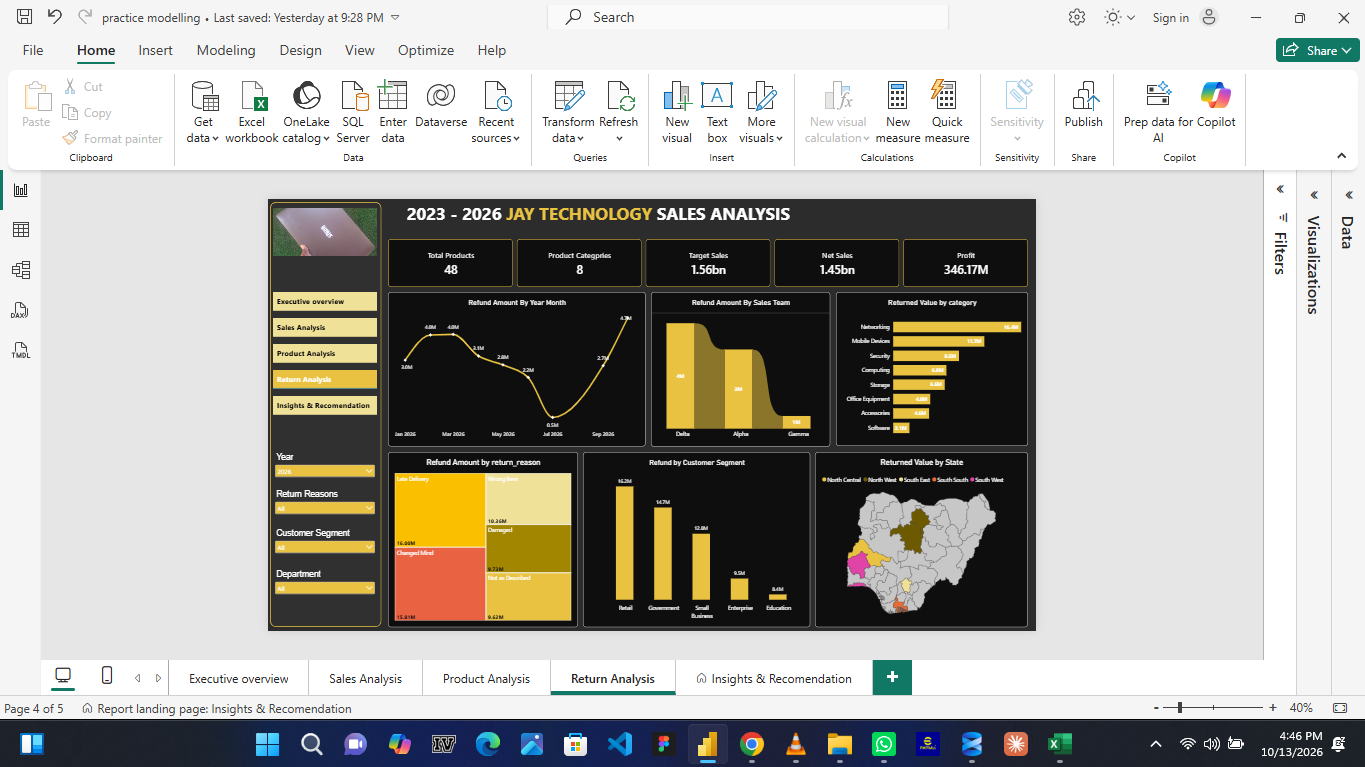

What the dashboard file says about the page in this screenshot:
{"tool":"powerbi","page":{"name":"Return Analysis","canvas":[1920,1080],"ordinal":3},"visuals":[{"type":"shape","box":[4.3,8.6,278.6,1062.7],"z":0},{"type":"textbox","box":[300.2,8.6,1051.9,60.5],"z":1000},{"type":"cardVisual","fields":{"Data":["measure.Total Products","measure.Product Categpries","measure.Target Sales","measure.Net Sales","measure.Profit"]},"box":[300,100,1600,120],"z":2000},{"type":"lineChart","title":"Refund Amount By Year Month","fields":{"Y":["measure.Returned Value"],"Category":["dim_date.year_month.Variation.Date Hierarchy.Year","dim_date.year_month.Variation.Date Hierarchy.Month"]},"box":[300,232,644,386],"z":3000},{"type":"slicer","fields":{"Values":["dim_date.year"]},"box":[12.5,632.5,260,75],"z":4000},{"type":"clusteredBarChart","fields":{"Y":["measure.Returned Value"],"Category":["dim_product.category"]},"box":[1420,232.5,480,385],"z":5000},{"type":"ribbonChart","title":"Refund Amount By Sales Team","fields":{"Y":["measure.Returned Value"],"Category":["dim_sales_reps.sales_team"]},"box":[958.3,231.7,448.3,386.7],"z":6000},{"type":"treemap","title":"Refund Amount by return_reason","fields":{"Group":["fact_returns.return_reason"],"Values":["measure.Returned Value"]},"box":[300,631.7,475,438.3],"z":7000},{"type":"columnChart","title":"Refund by Customer Segment","fields":{"Category":["dim_customer.customer_segments"],"Y":["measure.Returned Value"]},"box":[788.3,631.7,568.3,438.3],"z":8000},{"type":"slicer","fields":{"Values":["fact_returns.return_reason"]},"box":[12.5,725,260,75],"z":9000},{"type":"slicer","fields":{"Values":["dim_customer.customer_segments"]},"box":[12.5,822.5,260,72.5],"z":10000},{"type":"slicer","fields":{"Values":["dim_product.department"]},"box":[12.5,925,260,72.5],"z":11000},{"type":"pageNavigator","box":[12.5,232.5,260,307.5],"z":12000},{"type":"shapeMap","title":"Returned Value by State","fields":{"Category":["dim_customer.state"],"Series":["dim_customer.territory"],"Value":["measure.Returned Value"]},"box":[1368,632,532,438],"z":13000},{"type":"image","box":[12.5,22.5,260,120],"z":14000}]}

Visuals, with their boxes on the page's 1920x1080 design canvas (x1, y1, x2, y2). These are canvas units, not pixel positions in the 1365x767 screenshot, which may show the page scaled, cropped or inside an application window:
shape: [x1=4, y1=9, x2=283, y2=1071]
textbox: [x1=300, y1=9, x2=1352, y2=69]
cardVisual - measure.Total Products x measure.Product Categpries: [x1=300, y1=100, x2=1900, y2=220]
"Refund Amount By Year Month" lineChart: [x1=300, y1=232, x2=944, y2=618]
slicer - dim_date.year: [x1=12, y1=632, x2=272, y2=708]
clusteredBarChart - measure.Returned Value x dim_product.category: [x1=1420, y1=232, x2=1900, y2=618]
"Refund Amount By Sales Team" ribbonChart: [x1=958, y1=232, x2=1407, y2=618]
"Refund Amount by return_reason" treemap: [x1=300, y1=632, x2=775, y2=1070]
"Refund by Customer Segment" columnChart: [x1=788, y1=632, x2=1357, y2=1070]
slicer - fact_returns.return_reason: [x1=12, y1=725, x2=272, y2=800]
slicer - dim_customer.customer_segments: [x1=12, y1=822, x2=272, y2=895]
slicer - dim_product.department: [x1=12, y1=925, x2=272, y2=998]
pageNavigator: [x1=12, y1=232, x2=272, y2=540]
"Returned Value by State" shapeMap: [x1=1368, y1=632, x2=1900, y2=1070]
image: [x1=12, y1=22, x2=272, y2=142]
